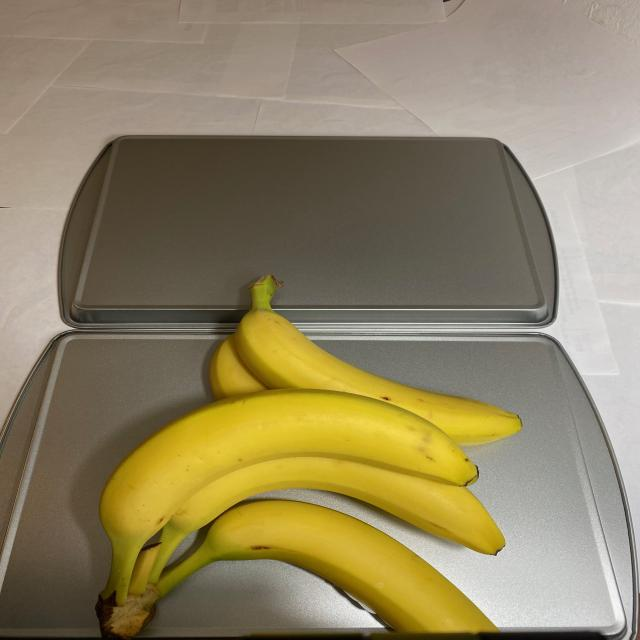banana: (90, 273, 531, 640)
